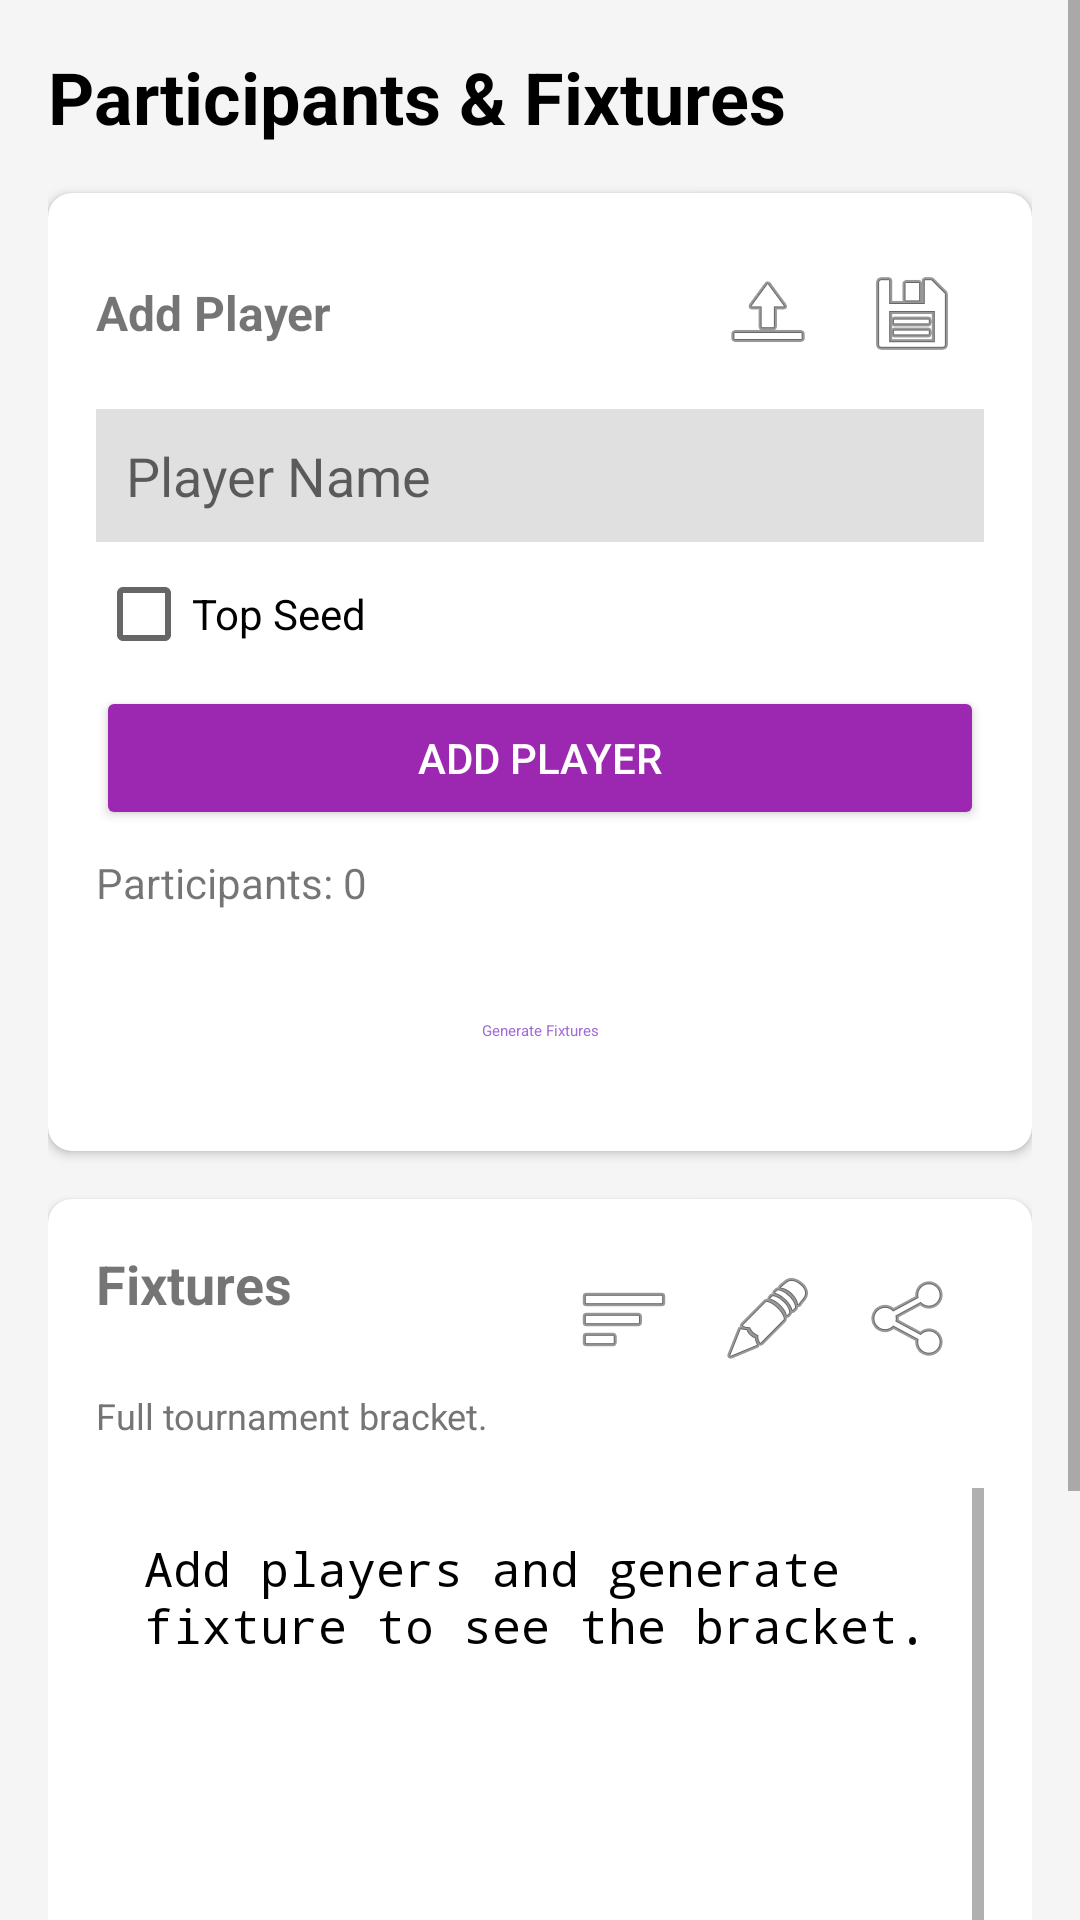

Icon click points for this 1080 × 1920 phone screenshot, format (x=x, y=y):
edit: (x=767, y=1318)
save: (x=912, y=313)
share: (x=907, y=1318)
sort by size: (x=624, y=1319)
upload: (x=768, y=311)
